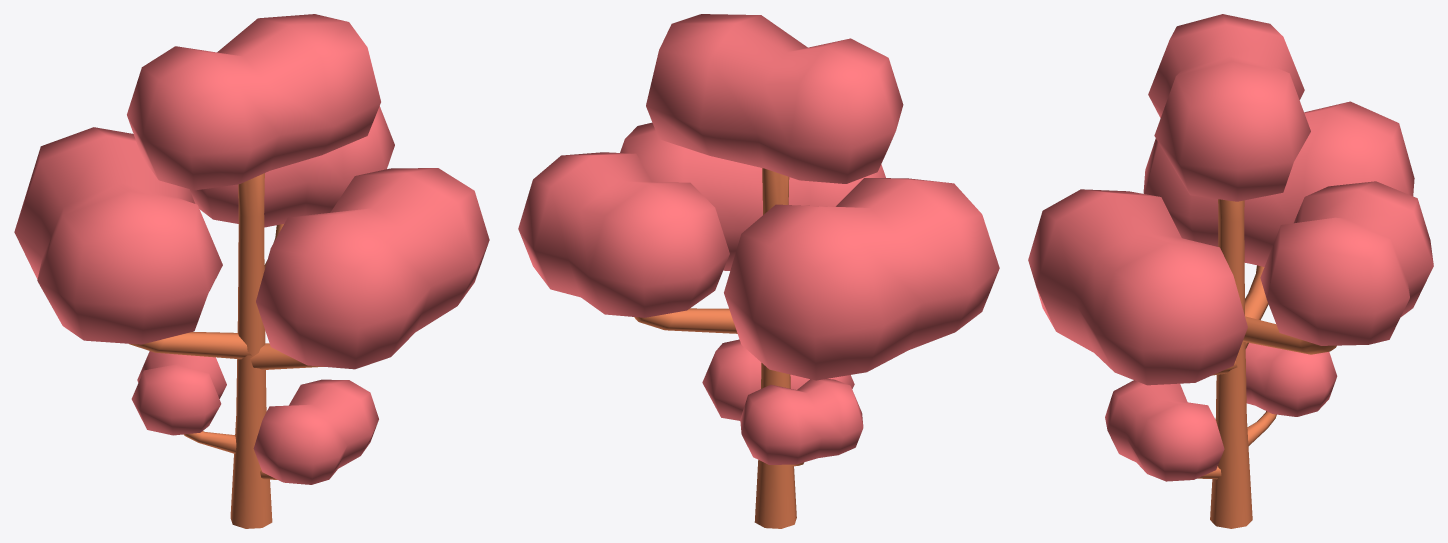
Rendered from CrimsonCloudBush.fbx.
The picture shows the model from 3 angles, left to right: view 1: azimuth 30°, elevation 25°; view 2: azimuth 150°, elevation 25°; view 3: azimuth 270°, elevation 25°; orthographic projection. The views are drawn at different scales.
Parts seen in each view (by area): view 1: CrimsonCloudBush_Item_LOD0, CrimsonCloudBush_Base_LOD0; view 2: CrimsonCloudBush_Item_LOD0, CrimsonCloudBush_Base_LOD0; view 3: CrimsonCloudBush_Item_LOD0, CrimsonCloudBush_Base_LOD0.
Part boxes in pixels (x1=…): CrimsonCloudBush_Item_LOD0: x1=14, y1=14, x2=489, y2=484; CrimsonCloudBush_Base_LOD0: x1=129, y1=173, x2=323, y2=528; CrimsonCloudBush_Item_LOD0: x1=518, y1=14, x2=999, y2=464; CrimsonCloudBush_Base_LOD0: x1=634, y1=168, x2=803, y2=528; CrimsonCloudBush_Item_LOD0: x1=1028, y1=14, x2=1433, y2=481; CrimsonCloudBush_Base_LOD0: x1=1197, y1=199, x2=1336, y2=528.
Size of what is drawn, in the model's own units: 0.7273 by 0.8464 by 0.6521.
